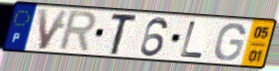6: (139, 16, 169, 58)
G: (212, 22, 248, 63)
L: (178, 19, 206, 60)
R: (56, 9, 99, 54)
T: (108, 14, 140, 57)
V: (36, 7, 71, 52)
